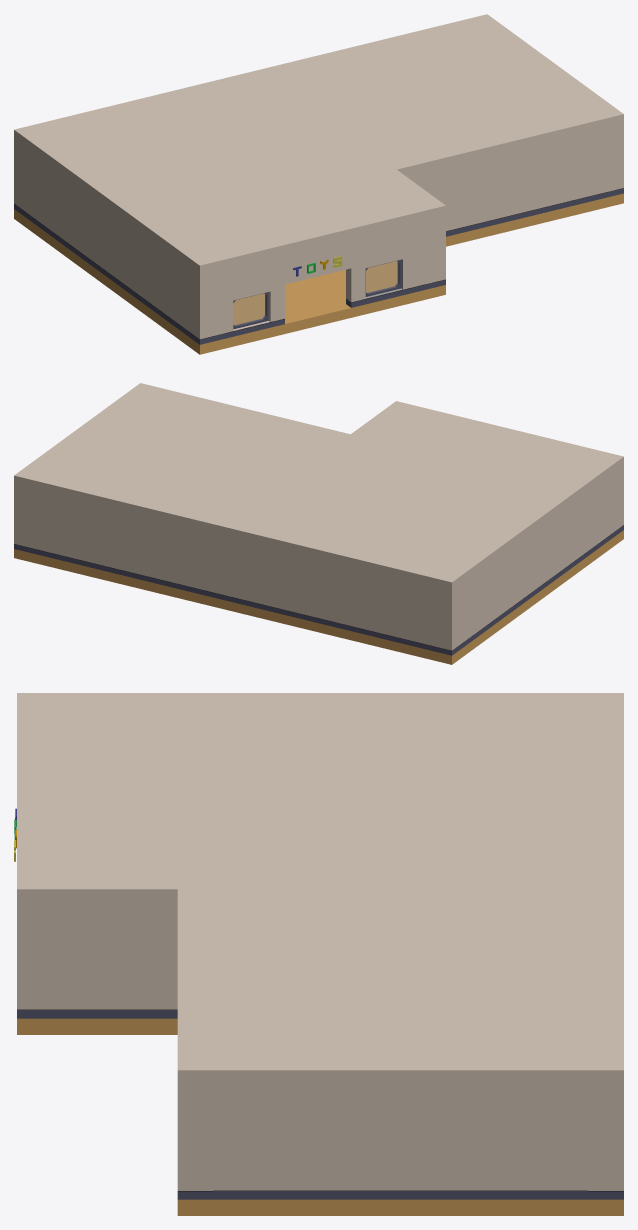
File: Jugueteria 2.fbx
The picture shows the model from 3 angles, top to bottom: view 1: azimuth 30°, elevation 25°; view 2: azimuth 150°, elevation 25°; view 3: azimuth 270°, elevation 25°; orthographic projection. The views are drawn at different scales.
Parts seen in each view (by area): view 1: Techo_11, Pared_1x10x16, Pared_33x10x1, Fachada_13, Piso_11, Esquina_1x10x40, Esquina_1x10x54, Esquina_1x10x52, Vidrio_Jug_3, Vidrio_Jug_4, Esquina_1x10x1; view 2: Techo_11, Pared_1x10x46, Pared_33x10x1, Piso_11, Esquina_1x10x1, Esquina_1x10x51, Esquina_1x10x40; view 3: Techo_11, Pared_21x10x1, Pared_1x10x6, Piso_11, Esquina_1x10x52, Esquina_1x10x51, Esquina_1x10x54, Esquina_1x10x53.
Part boxes in pixels (x1,y1,x2,y2): Techo_11: [14, 14, 623, 275]; Pared_1x10x16: [407, 129, 604, 236]; Pared_33x10x1: [25, 148, 188, 336]; Fachada_13: [218, 220, 426, 339]; Piso_11: [14, 193, 623, 354]; Esquina_1x10x40: [189, 268, 218, 344]; Esquina_1x10x54: [427, 215, 445, 289]; Esquina_1x10x52: [605, 124, 623, 197]; Vidrio_Jug_3: [233, 293, 265, 325]; Vidrio_Jug_4: [366, 261, 398, 293]; Esquina_1x10x1: [14, 140, 24, 216]; Techo_11: [14, 383, 623, 591]; Pared_1x10x46: [31, 489, 434, 651]; Pared_33x10x1: [462, 473, 613, 647]; Piso_11: [14, 530, 623, 664]; Esquina_1x10x1: [434, 584, 461, 655]; Esquina_1x10x51: [14, 485, 31, 552]; Esquina_1x10x40: [614, 466, 623, 536]; Techo_11: [17, 693, 623, 1086]; Pared_21x10x1: [213, 1086, 588, 1199]; Pared_1x10x6: [52, 905, 159, 1018]; Piso_11: [17, 1018, 623, 1215]; Esquina_1x10x52: [177, 1086, 213, 1199]; Esquina_1x10x51: [588, 1086, 623, 1199]; Esquina_1x10x54: [17, 905, 52, 1018]; Esquina_1x10x53: [159, 905, 177, 1018].
Size of the model in its own units: 50 by 9 by 34.16.
